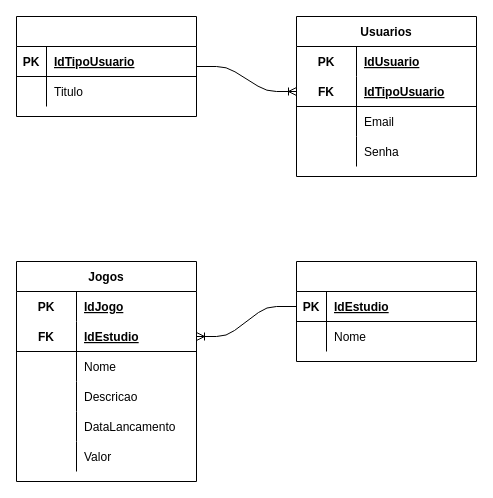
This 493x498 diagram has some shape labels left out. Here are the shapes that lost their labels. From the top down, the box of each, then its label:
(16, 16, 196, 116): TiposUsuarios
(296, 260, 476, 362): Estudios
